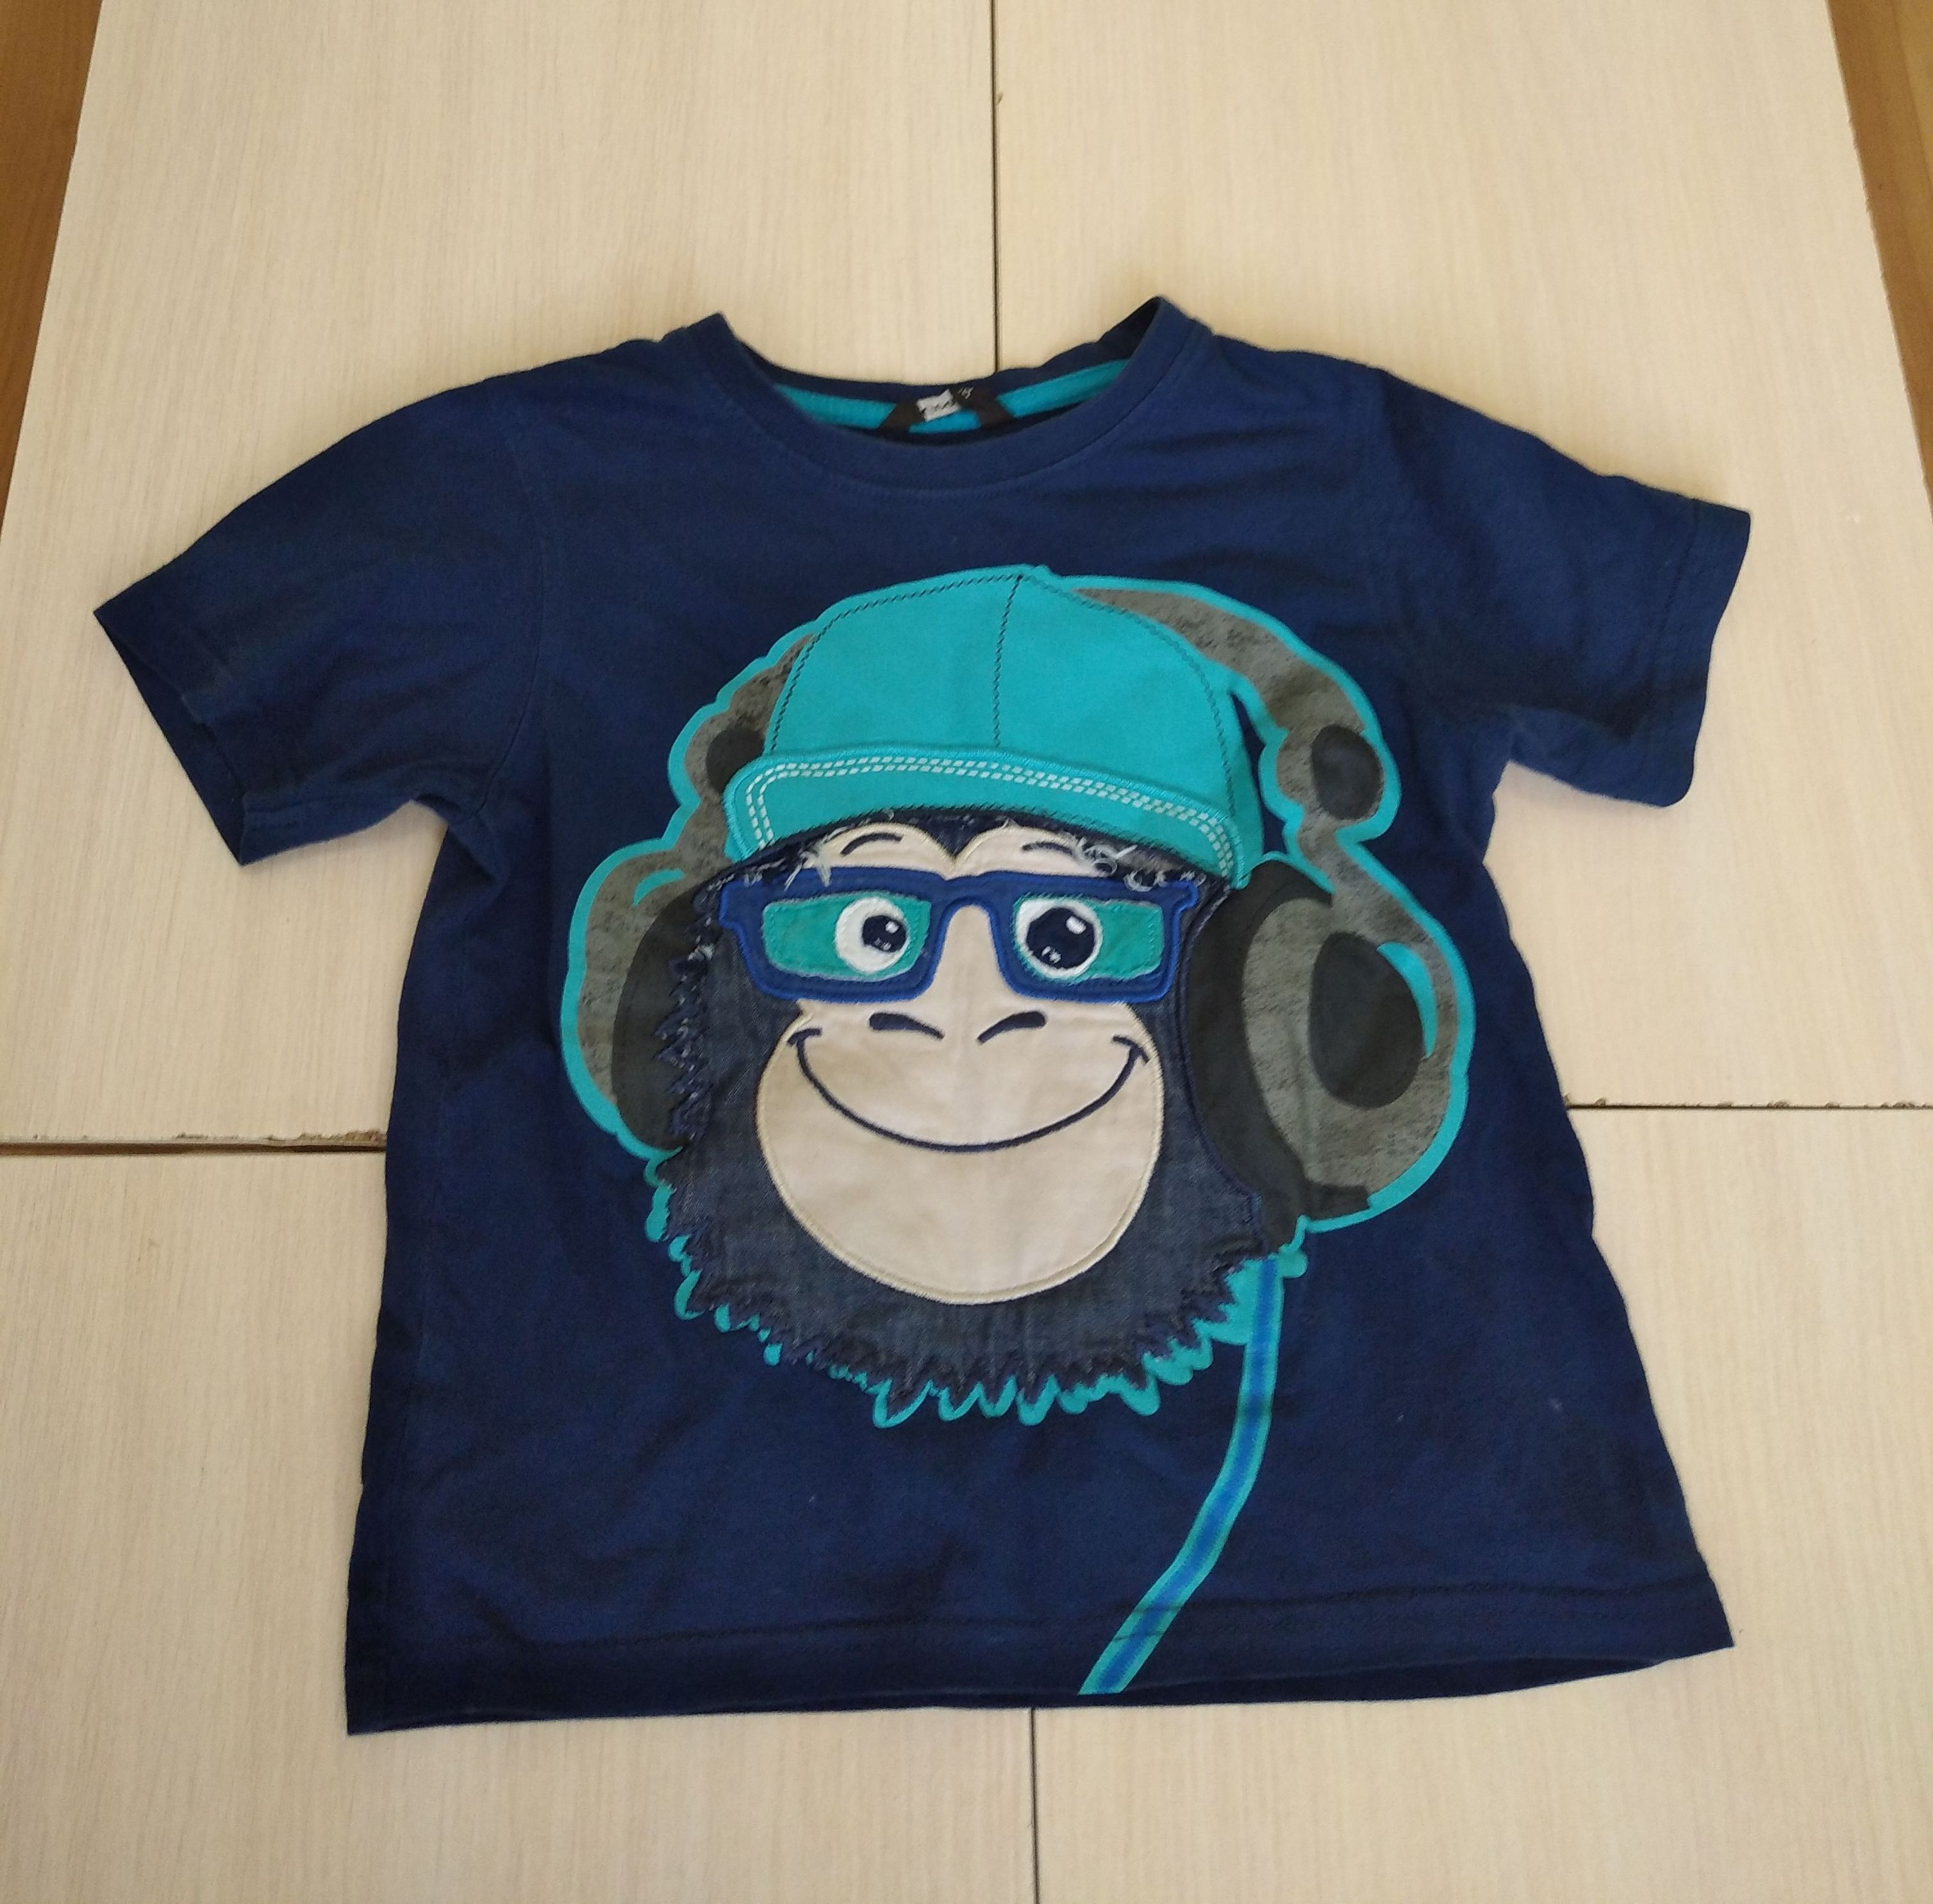clothes: (85, 319, 1752, 1686)
